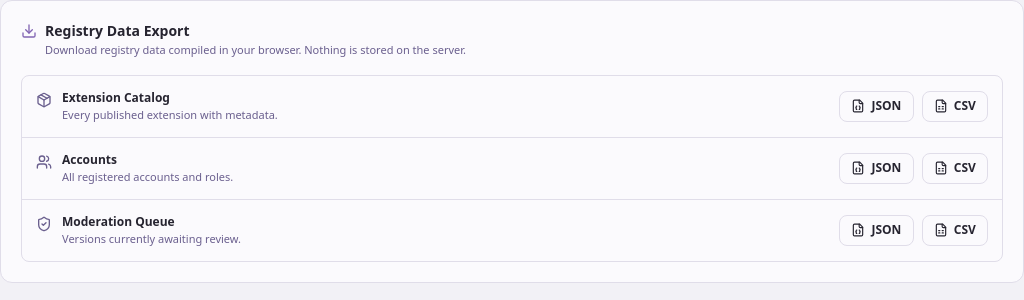
Scenario: ExportPanel › downloads the catalog as JSON and reports success
The image size is (1024, 300).
What coordinates should you click on to do the following:
click the button "JSON" in the row of "Every published extension with metadata."
I would click on:
 (876, 106)
Its box is [839,91,914,122].
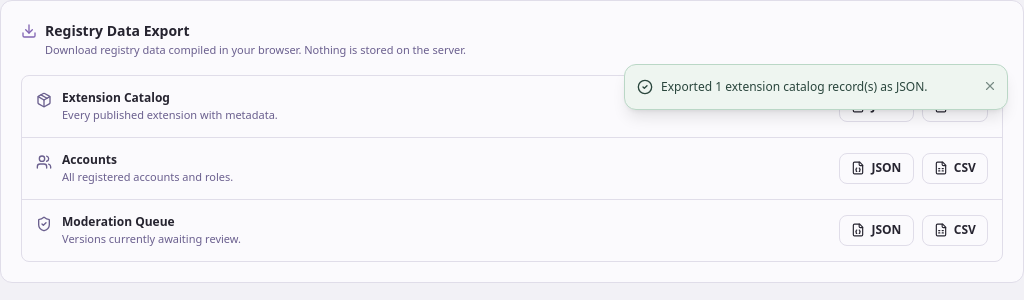
Check: the text "Exported 1 extension catalog record(s) as JSON." is shown, box [661,77,973,96]
